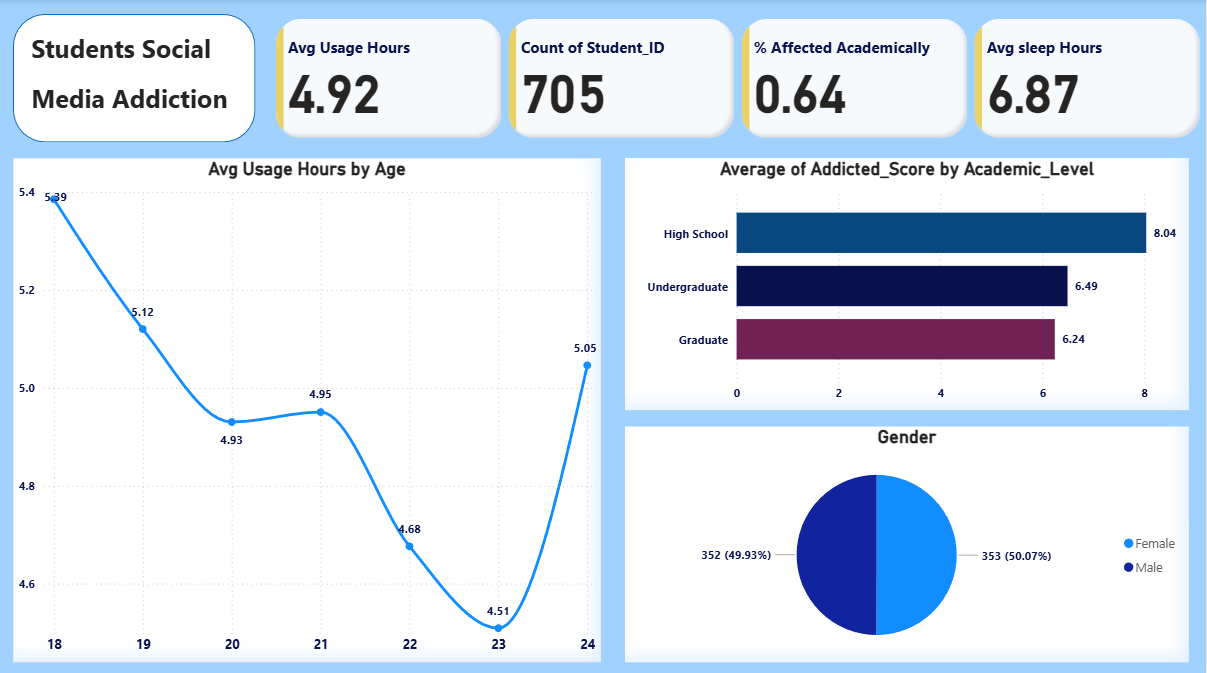

What the dashboard file says about the page in this screenshot:
{"tool":"powerbi","page":{"name":"Exective overview","canvas":[1280,720],"ordinal":0},"visuals":[{"type":"cardVisual","fields":{"Data":["Platform Details.Avg Usage Hours","CountNonNull(Student Details.Student_ID)","Platform Details.% Affected Academically","Student Details.Avg sleep Hours"]},"box":[289.1,15.1,990.2,136.1],"z":0},{"type":"barChart","fields":{"Category":["Student Details.Academic_Level"],"Y":["Avg(Student Details.Addicted_Score)"]},"box":[664.9,168.6,598.1,267.2],"z":1000},{"type":"lineChart","fields":{"Y":["Platform Details.Avg Usage Hours"],"Category":["Student Details.Age"]},"box":[15.1,168.2,623.6,534.8],"z":2000},{"type":"pieChart","title":" Gender","fields":{"Category":["Student Details.Gender"],"Y":["CountNonNull(Student Details.Gender)"]},"box":[664.9,453.3,598.1,249.7],"z":3000},{"type":"shape","box":[15.1,15.1,257,136.1],"z":4000},{"type":"textbox","box":[30.2,28.3,226.8,109.6],"z":5000}]}

Visuals, with their boxes in screenshot pixels (x1, y1, x2, y2), scaled from the page's 1280x720 canvas onto the 1207x673 screenshot:
cardVisual - Platform Details.Avg Usage Hours x CountNonNull(Student Details.Student_ID): [x1=273, y1=14, x2=1206, y2=141]
barChart - Student Details.Academic_Level x Avg(Student Details.Addicted_Score): [x1=627, y1=158, x2=1191, y2=407]
lineChart - Platform Details.Avg Usage Hours x Student Details.Age: [x1=14, y1=157, x2=602, y2=657]
" Gender" pieChart: [x1=627, y1=424, x2=1191, y2=657]
shape: [x1=14, y1=14, x2=257, y2=141]
textbox: [x1=28, y1=26, x2=242, y2=129]
